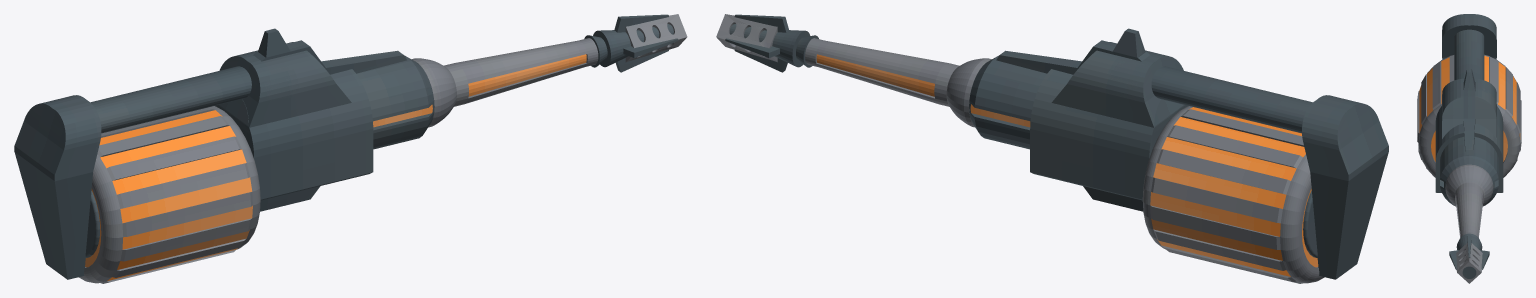
The model's file is energon_pistol3.obj.
3 renders of one model, left to right at view 1: azimuth 30°, elevation 25°; view 2: azimuth 150°, elevation 25°; view 3: azimuth 270°, elevation 25°, orthographic. The views are drawn at different scales.
Visible parts, largest first — view 1: Cylinder.008_Cylinder.005, Cube.010_Cube.011, Cube.009, Cylinder.011_Cylinder.008, Cylinder.006_Cylinder.012, Cylinder, Cube.007_Cube.004, Cylinder.009_Cylinder.006, Cube.008_Cube.007, Cube.011_Cube.013, Cube_Cube.001, Cylinder.005_Cylinder.011 (+5 smaller); view 2: Cylinder.008_Cylinder.005, Cube.010_Cube.011, Cube.009, Cylinder.011_Cylinder.008, Cylinder.006_Cylinder.012, Cylinder, Cube.007_Cube.004, Cylinder.009_Cylinder.006, Cube.008_Cube.007, Cube.011_Cube.013, Cube_Cube.001, Cylinder.005_Cylinder.011 (+7 smaller); view 3: Cylinder.008_Cylinder.005, Cylinder.006_Cylinder.012, Cube.008_Cube.007, Cylinder.010_Cylinder.009, Cube.009, Cube.010_Cube.011, Cylinder.011_Cylinder.008, Cylinder, Cylinder.005_Cylinder.011, Cube.011_Cube.013, Cube_Cube.001, Cube.007_Cube.004 (+4 smaller).
Boxes of the visible parts, x1,y1,x2,y2 form: Cylinder.008_Cylinder.005: (97, 107, 252, 283); Cube.010_Cube.011: (14, 95, 101, 279); Cube.009: (219, 69, 373, 200); Cylinder.011_Cylinder.008: (90, 66, 251, 133); Cylinder.006_Cylinder.012: (356, 55, 434, 149); Cylinder: (444, 38, 598, 106); Cube.007_Cube.004: (215, 51, 299, 133); Cylinder.009_Cylinder.006: (79, 154, 123, 283); Cube.008_Cube.007: (237, 42, 351, 116); Cube.011_Cube.013: (253, 28, 406, 74); Cube_Cube.001: (625, 14, 687, 62); Cylinder.005_Cylinder.011: (411, 58, 456, 127); Cylinder.008_Cylinder.005: (1150, 107, 1305, 283); Cube.010_Cube.011: (1302, 95, 1388, 279); Cube.009: (1030, 69, 1184, 200); Cylinder.011_Cylinder.008: (1151, 66, 1312, 133); Cylinder.006_Cylinder.012: (969, 55, 1046, 149); Cylinder: (805, 38, 959, 106); Cube.007_Cube.004: (1103, 50, 1188, 133); Cylinder.009_Cylinder.006: (1280, 154, 1324, 283); Cube.008_Cube.007: (1051, 42, 1165, 115); Cube.011_Cube.013: (996, 28, 1150, 74); Cube_Cube.001: (716, 14, 777, 62); Cylinder.005_Cylinder.011: (946, 58, 991, 127); Cylinder.008_Cylinder.005: (1417, 56, 1521, 168); Cylinder.006_Cylinder.012: (1440, 137, 1498, 206); Cube.008_Cube.007: (1442, 80, 1496, 139); Cylinder.010_Cylinder.009: (1418, 104, 1520, 177); Cube.009: (1435, 106, 1503, 192); Cube.010_Cube.011: (1442, 14, 1496, 59); Cylinder.011_Cylinder.008: (1454, 29, 1484, 80); Cylinder: (1455, 182, 1483, 237); Cylinder.005_Cylinder.011: (1445, 164, 1493, 206); Cube.011_Cube.013: (1463, 69, 1475, 155); Cube_Cube.001: (1456, 243, 1482, 283); Cube.007_Cube.004: (1442, 78, 1496, 120).
Bounding box in the file's own units: 2.95 × 0.8874 × 0.6084.
